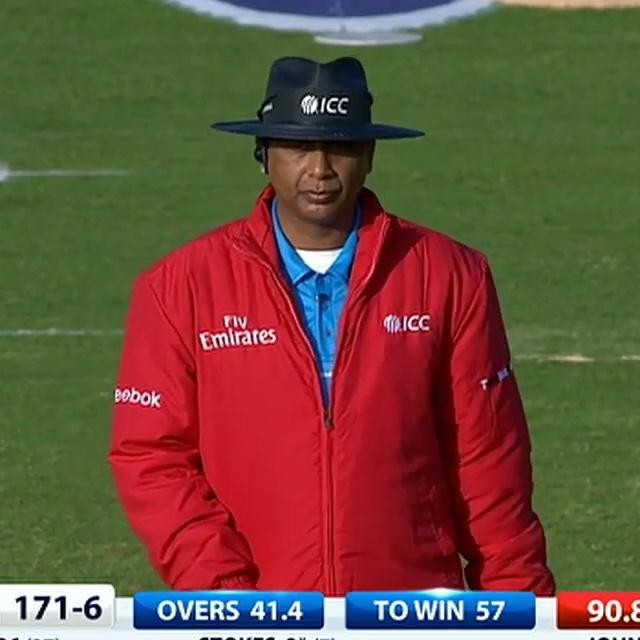umpire: (79, 31, 604, 592)
